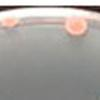white: (65, 16, 86, 37), (1, 14, 20, 30)
